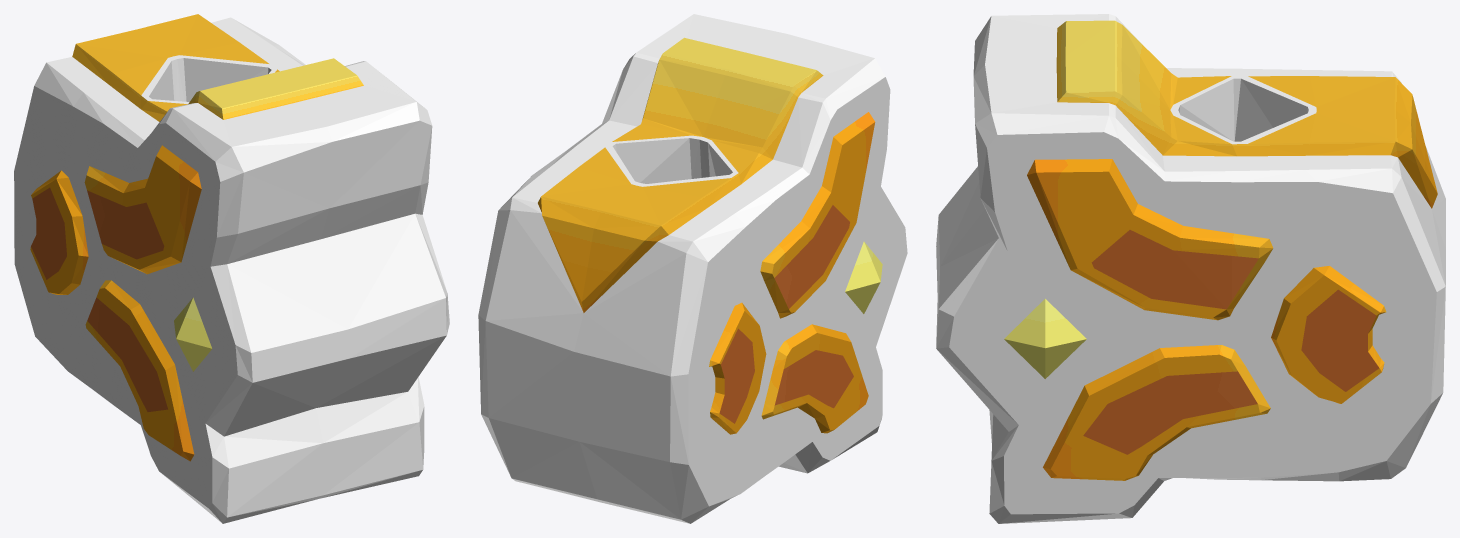
File: CharSkyKid_Neck_DragonTailWhite.glb
The picture shows the model from 3 angles, left to right: view 1: azimuth 30°, elevation 25°; view 2: azimuth 150°, elevation 25°; view 3: azimuth 270°, elevation 25°; orthographic projection. The views are drawn at different scales.
Parts seen in each view (by area): view 1: CharSkyKid_Neck_DragonTailWhite; view 2: CharSkyKid_Neck_DragonTailWhite; view 3: CharSkyKid_Neck_DragonTailWhite.
Boxes of the visible parts, x1,y1,x2,y2 form: CharSkyKid_Neck_DragonTailWhite: (14,14,449,523); CharSkyKid_Neck_DragonTailWhite: (478,14,907,523); CharSkyKid_Neck_DragonTailWhite: (936,14,1445,523).
Size of the model in its own units: 5.88 by 8.81 by 9.76.
1 material, 1 textured.
